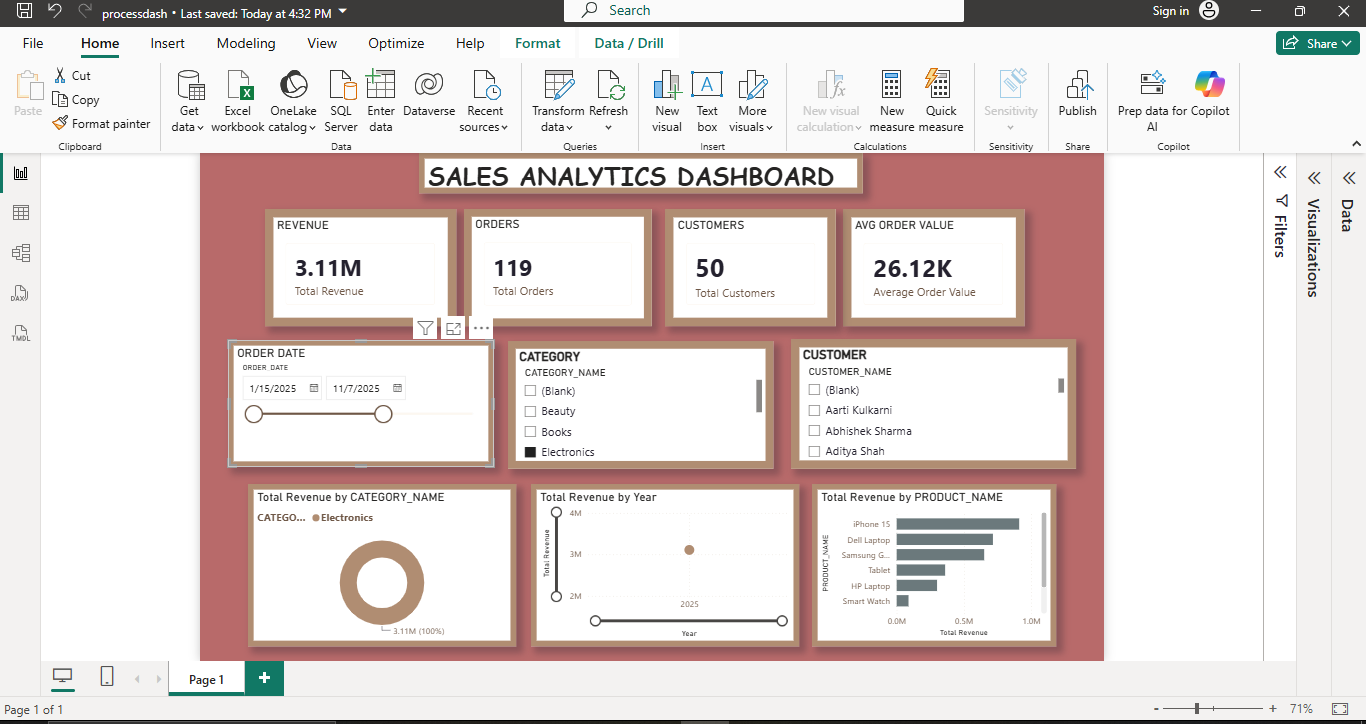

What the dashboard file says about the page in this screenshot:
{"tool":"powerbi","page":{"name":"Page 1","canvas":[1280,720],"ordinal":0},"visuals":[{"type":"lineChart","fields":{"Category":["ORDERS.ORDER_DATE.Variation.Date Hierarchy.Year","ORDERS.ORDER_DATE.Variation.Date Hierarchy.Quarter","ORDERS.ORDER_DATE.Variation.Date Hierarchy.Month","ORDERS.ORDER_DATE.Variation.Date Hierarchy.Day"],"Y":["ORDER_ITEMS.Total Revenue"]},"box":[469.1,469.1,379.8,229.6],"z":3002},{"type":"donutChart","fields":{"Category":["CATEGORIES.CATEGORY_NAME"],"Y":["ORDER_ITEMS.Total Revenue"]},"box":[68,469.1,379.8,229.6],"z":3003},{"type":"clusteredBarChart","fields":{"Y":["ORDER_ITEMS.Total Revenue"],"Category":["PRODUCTS.PRODUCT_NAME"]},"box":[867.4,469.1,345.8,229.6],"z":3005},{"type":"slicer","title":"ORDER DATE","fields":{"Values":["ORDERS.ORDER_DATE"]},"box":[39.7,265,377,180],"z":3006},{"type":"slicer","title":"CATEGORY","fields":{"Values":["CATEGORIES.CATEGORY_NAME"]},"box":[436.5,266.5,375.6,181.4],"z":3007},{"type":"slicer","title":"CUSTOMER","fields":{"Values":["CUSTOMERS.CUSTOMER_NAME"]},"box":[837.6,263.6,403.9,184.3],"z":3008},{"type":"cardVisual","title":"AVG ORDER VALUE","fields":{"Data":["ORDER_ITEMS.Average Order Value"]},"box":[911.3,79.4,256.5,165.8],"z":3009},{"type":"cardVisual","title":"REVENUE","fields":{"Data":["ORDER_ITEMS.Total Revenue"]},"box":[92.1,79.4,270.7,165.8],"z":3010},{"type":"cardVisual","title":"CUSTOMERS","fields":{"Data":["CUSTOMERS.Total Customers"]},"box":[659.1,79.4,242.4,165.8],"z":3011},{"type":"cardVisual","title":"ORDERS","fields":{"Data":["ORDERS.Total Orders"]},"box":[374.2,79.4,266.5,165.8],"z":3012},{"type":"textbox","title":" SALES ANALYTICS DASHBOARD    ","box":[310.4,0,629.3,56.7],"z":3013}]}

Visuals, with their boxes on the page's 1280x720 design canvas (x1, y1, x2, y2). These are canvas units, not pixel positions in the 1366x724 screenshot, which may show the page scaled, cropped or inside an application window:
lineChart - ORDERS.ORDER_DATE.Variation.Date Hierarchy.Year x ORDERS.ORDER_DATE.Variation.Date Hierarchy.Quarter: left=469, top=469, right=849, bottom=699
donutChart - CATEGORIES.CATEGORY_NAME x ORDER_ITEMS.Total Revenue: left=68, top=469, right=448, bottom=699
clusteredBarChart - ORDER_ITEMS.Total Revenue x PRODUCTS.PRODUCT_NAME: left=867, top=469, right=1213, bottom=699
"ORDER DATE" slicer: left=40, top=265, right=417, bottom=445
"CATEGORY" slicer: left=436, top=266, right=812, bottom=448
"CUSTOMER" slicer: left=838, top=264, right=1242, bottom=448
"AVG ORDER VALUE" cardVisual: left=911, top=79, right=1168, bottom=245
"REVENUE" cardVisual: left=92, top=79, right=363, bottom=245
"CUSTOMERS" cardVisual: left=659, top=79, right=902, bottom=245
"ORDERS" cardVisual: left=374, top=79, right=641, bottom=245
" SALES ANALYTICS DASHBOARD    " textbox: left=310, top=0, right=940, bottom=57
